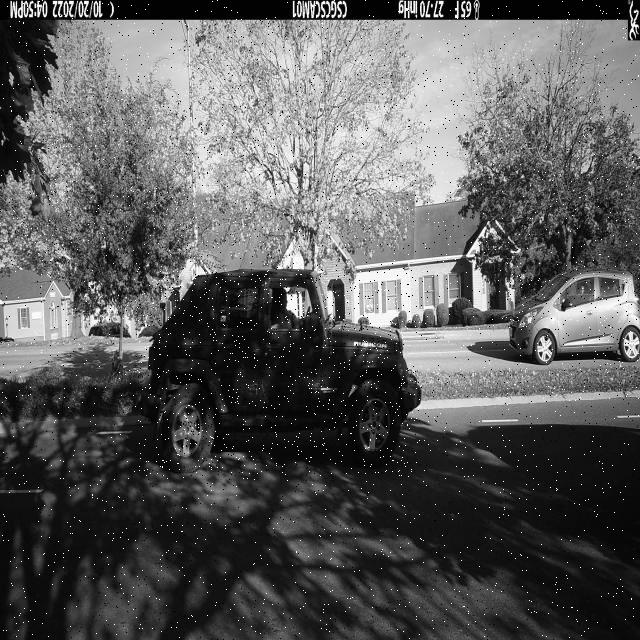Hatchback: (509, 269, 640, 365)
SUV: (136, 269, 422, 476)
